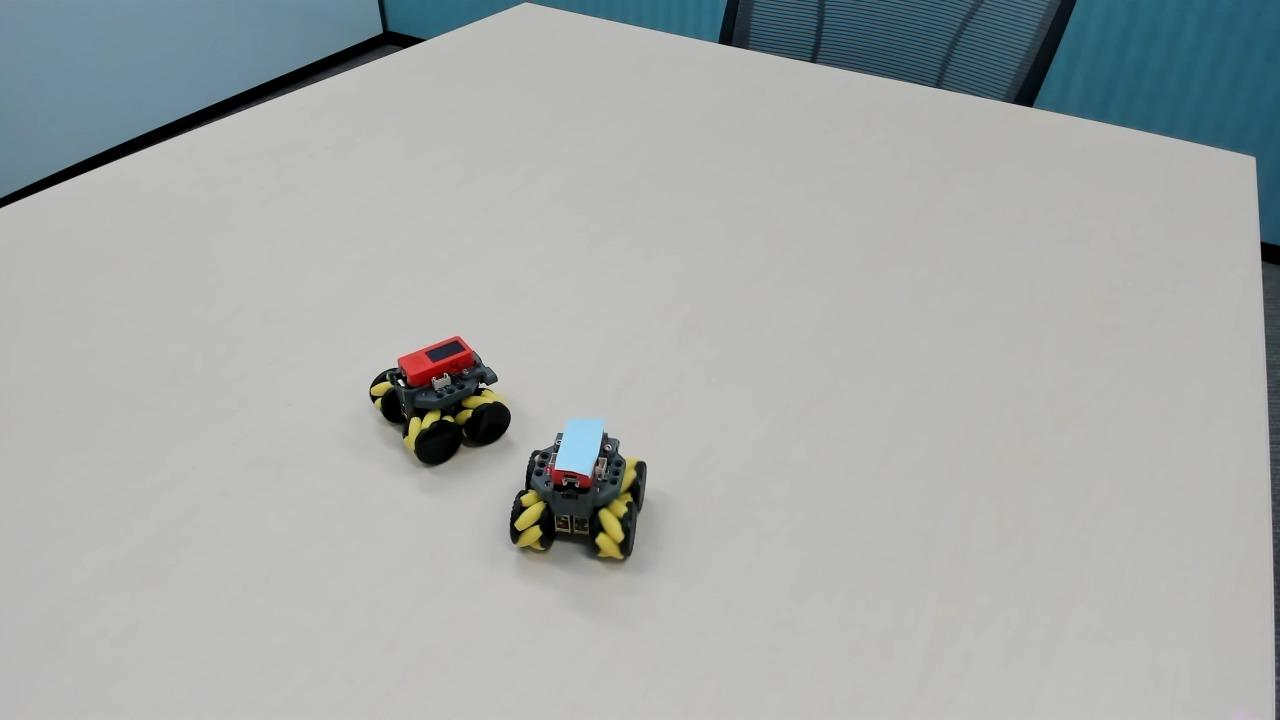B-Robot: (515, 416, 658, 583)
R-Robot: (365, 323, 519, 468)
